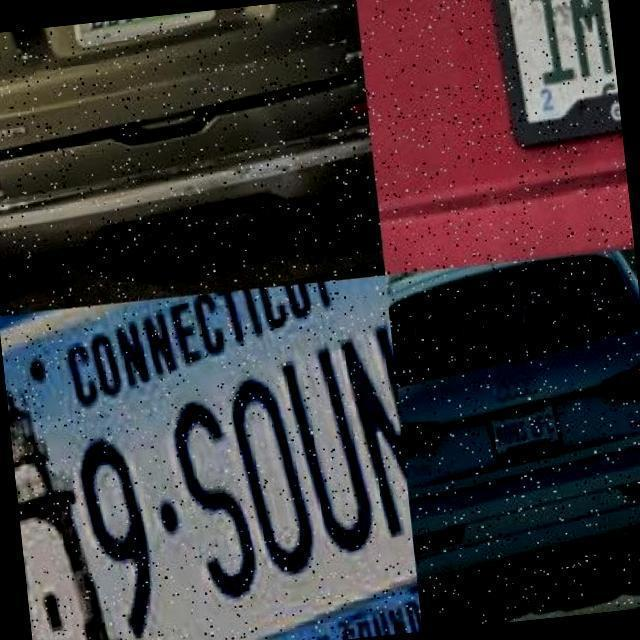license-plate: (9, 267, 402, 635)
